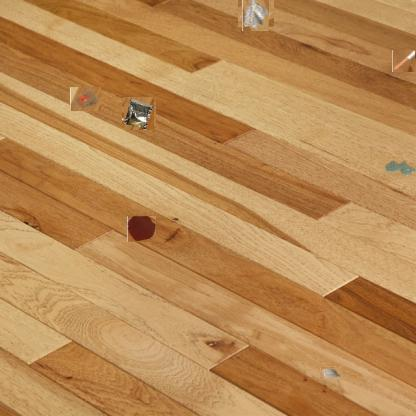dirty: (123, 97, 155, 129), (240, 0, 271, 29), (72, 86, 100, 113), (393, 49, 416, 73), (320, 366, 342, 380)
liquid: (127, 216, 156, 242), (384, 159, 416, 177)
